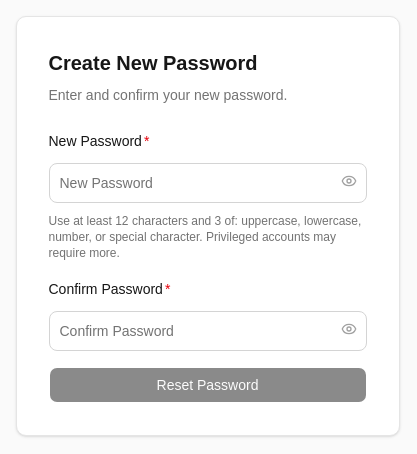
Test: ResetPassword › revalidates a failed submission to distinguish an invalid token from policy errors
Type "New-password1" into the password field with id "new-password" at (208, 183), box x1=48 y1=163 x2=366 y2=203
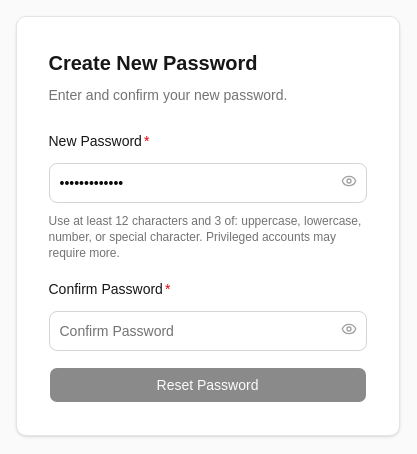
Type "New-password1" into the password field with id "confirm-password" at (208, 331), box x1=48 y1=311 x2=366 y2=351
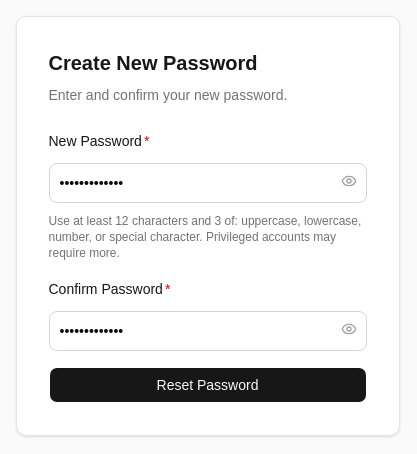
Click the button "Reset Password" at (208, 385), box x1=48 y1=367 x2=366 y2=403
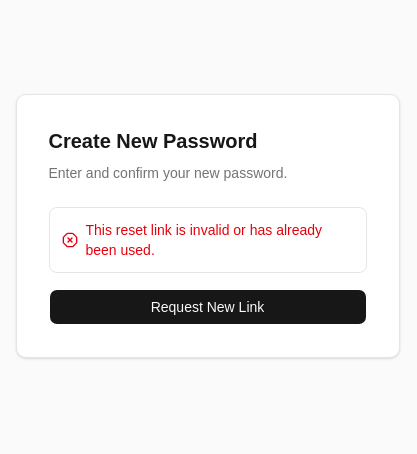
Result: the message reads "This reset link is invalid or has already been used." at x1=86 y1=222 x2=322 y2=258
Result: the button "Request New Link" is shown at x1=48 y1=289 x2=366 y2=325
